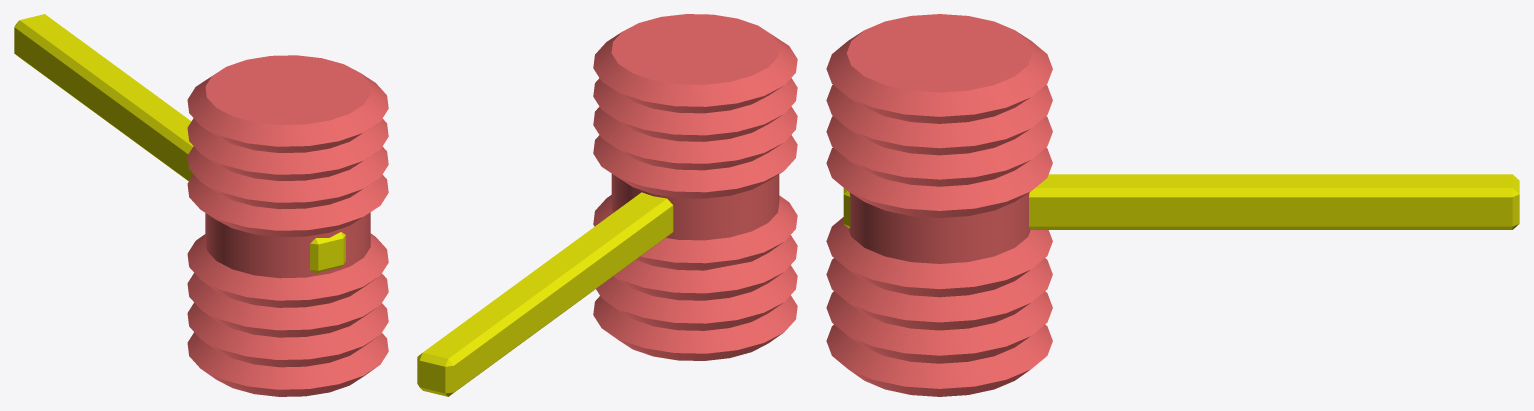
The model's file is PicopicoHammer_04.fbx.
The picture shows the model from 3 angles, left to right: view 1: azimuth 30°, elevation 25°; view 2: azimuth 150°, elevation 25°; view 3: azimuth 270°, elevation 25°; orthographic projection. The views are drawn at different scales.
Parts seen in each view (by area): view 1: pCube2; view 2: pCube2; view 3: pCube2.
Boxes of the visible parts, left/top/right/bottom form: pCube2: left=14, top=14, right=388, bottom=396; pCube2: left=417, top=14, right=797, bottom=396; pCube2: left=826, top=14, right=1519, bottom=396.
Size of the model in its own units: 2.44 by 3.61 by 7.45.
